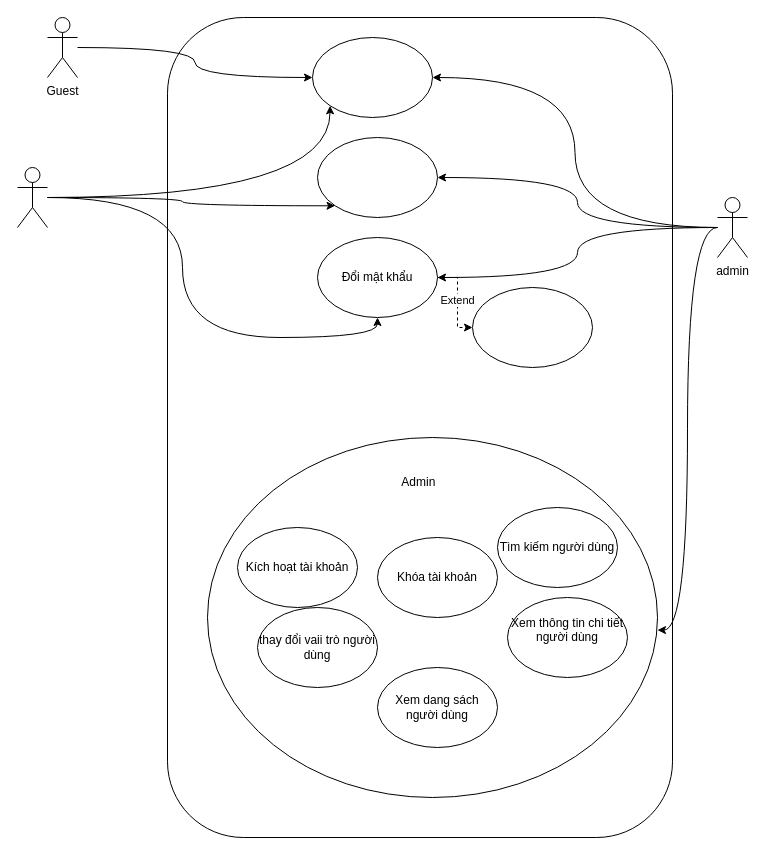
Some shapes in this 766 by 855 pixel diagram are drawn without their labels. The box of each missing label's shape, as (x1, y1, x2, y2) in pixels:
Gửi mk qua email: (472, 286, 592, 368)
User: (16, 166, 48, 228)
Đăng nhập/ Đăng kí: (312, 36, 432, 118)
Đăng xuất: (316, 136, 438, 218)
